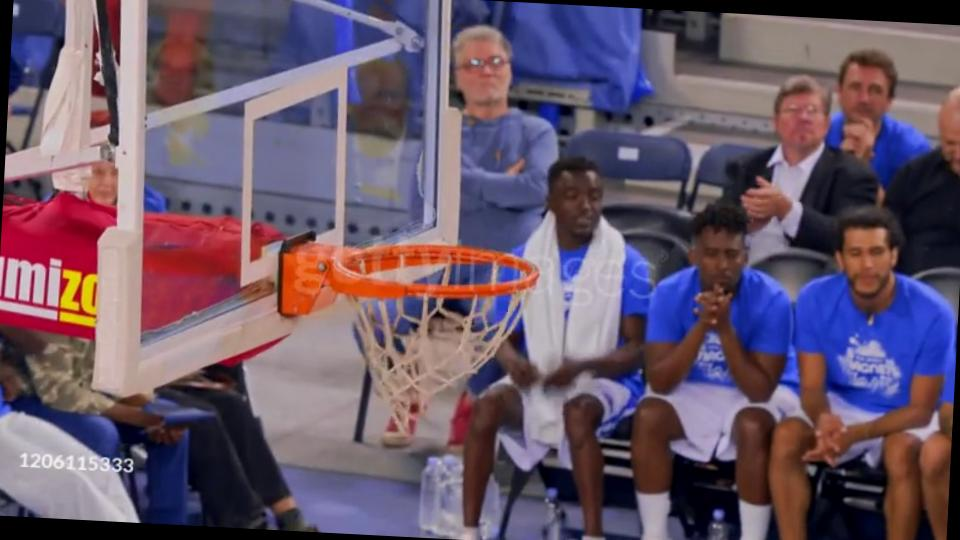hoop: (268, 234, 546, 326)
